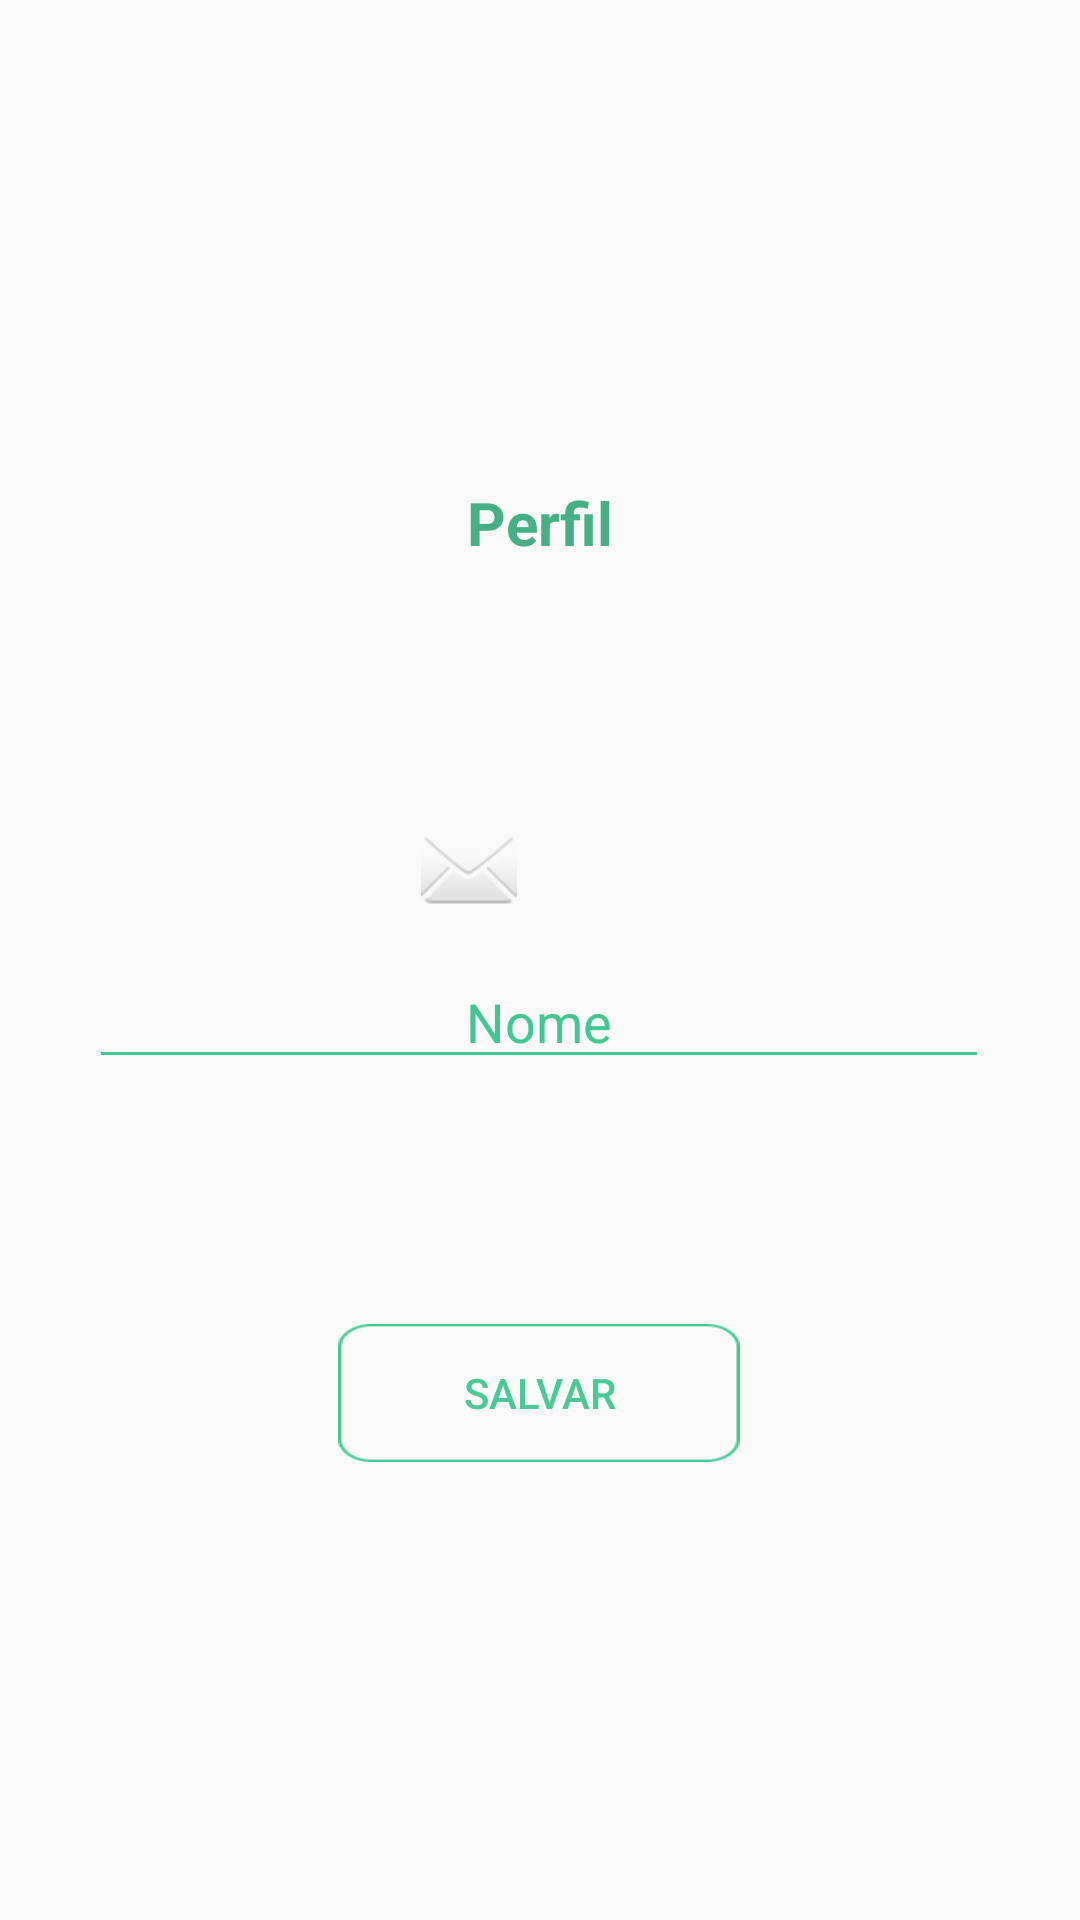

Locate icon controls on the screen. Image size 1080px×1920px, boxes as [x1,y1,x2,y2].
email: [421,839,517,904]
